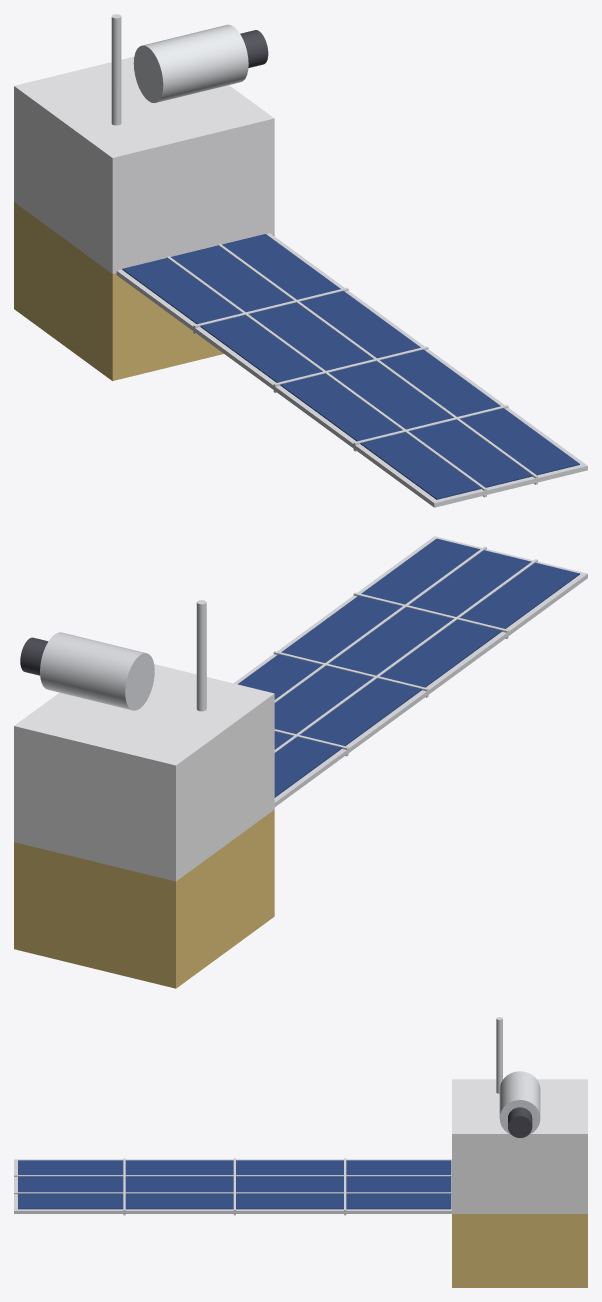
File: weather.glb
3 renders of one model, top to bottom at view 1: azimuth 30°, elevation 25°; view 2: azimuth 150°, elevation 25°; view 3: azimuth 270°, elevation 25°, orthographic. The views are drawn at different scales.
Size of the model in its own units: 2.3 by 3.7 by 8.45.
